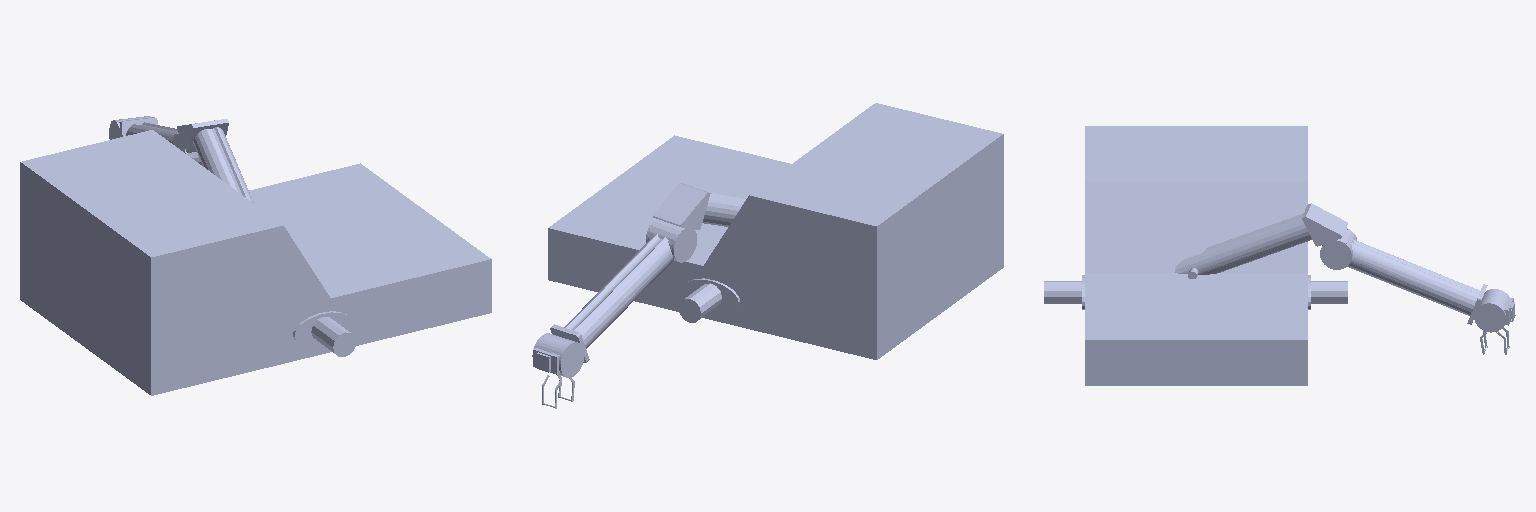
URDF robot description (sra):
<?xml version="1.0" encoding="utf-8"?>
<!-- This URDF was automatically created by SolidWorks to URDF Exporter! Originally created by [author] ([email redacted]) 
     Commit Version: 1.5.1-0-g916b5db  Build Version: 1.5.7152.31018
     For more information, please see http://wiki.ros.org/sw_urdf_exporter -->
<robot name="sra">

  <link name="base_link">
    <inertial>
      <origin
        xyz="0 0.0127 4.5102E-19"
        rpy="0 0 0" />
      <mass value="0.08044" />
      <inertia
        ixx="2.4597E-05"
        ixy="-6.268E-38"
        ixz="0"
        iyy="4.0544E-05"
        iyz="0"
        izz="2.4597E-05" />
    </inertial>
    <visual>
      <origin
        xyz="0 0 0"
        rpy="0 0 0" />
      <geometry>
        <mesh filename="package://srr_sim/meshes/sra/base_link.STL" />
      </geometry>
      <material name="">
        <color rgba="0.79216 0.81961 0.93333 1" />
      </material>
    </visual>
    <collision>
      <origin
        xyz="0 0 0"
        rpy="0 0 0" />
      <geometry>
        <mesh filename="package://srr_sim/meshes/sra/base_link.STL" />
      </geometry>
    </collision>
  </link>
  <joint name="BaseJoint" type="revolute"> <!-- rev_joint1 -->
    <origin
      xyz="0 0 0.0254"
      rpy="1.5708 0 1.4018" />
    <parent link="base_link" />
    <child link="BaseToShoulderLink" />
    <axis xyz="0 1 0" />
    <limit
      lower="-3.14159265"
      upper="3.14159265"
      effort="0"
      velocity="0" />
  </joint>
  <link name="BaseToShoulderLink"> <!-- base_rev_link -->
    <inertial>
      <origin
        xyz="-2.92661162667607E-17 0.013697641221977 9.45375589091657E-17"
        rpy="0 0 0" />
      <mass value="0.0540161279717926" />
      <inertia
        ixx="2.90475786565652E-05"
        ixy="-5.89115315950834E-21"
        ixz="-3.59989002583078E-21"
        iyy="2.8681014009555E-05"
        iyz="2.99557283317081E-21"
        izz="2.29779164641968E-05" />
    </inertial>
    <visual>
      <origin
        xyz="0 0 0"
        rpy="0 0 0" />
      <geometry>
        <mesh filename="package://srr_sim/meshes/sra/BaseToShoulderLink.STL" />
      </geometry>
      <material name="">
        <color rgba="0.792156862745098 0.819607843137255 0.933333333333333 1" />
      </material>
    </visual>
    <collision>
      <origin
        xyz="0 0 0"
        rpy="0 0 0" />
      <geometry>
        <mesh filename="package://srr_sim/meshes/sra/BaseToShoulderLink.STL" />
      </geometry>
    </collision>
  </link>
  <joint name="ShoulderJoint" type="revolute"> <!-- link_joint1 -->
    <origin
      xyz="0 0.05 0"
      rpy="0 0 -0.35492" />
    <parent link="BaseToShoulderLink" />
    <child link="ShoulderToElbowDummyLink" />
    <axis xyz="0 0 1" />
    <limit
      lower="-3.14159265"
      upper="3.14159265"
      effort="0"
      velocity="0" />
  </joint>
  <link name="ShoulderToElbowDummyLink"> <!-- link1 -->
    <inertial>
      <origin
        xyz="0.0534557495118669 0.0514473910632604 -1.16144608446203E-07"
        rpy="0 0 0" />
      <mass value="0.214557043401322" />
      <inertia
        ixx="0.0003839937136465"
        ixy="-0.000341660300404952"
        ixz="2.05559672158717E-10"
        iyy="0.000375988028453804"
        iyz="1.9308845878262E-10"
        izz="0.000714072868957156" />
    </inertial>
    <visual>
      <origin
        xyz="0 0 0"
        rpy="0 0 0" />
      <geometry>
        <mesh filename="package://srr_sim/meshes/sra/ShoulderToElbowDummyLink.STL" />
      </geometry>
      <material name="">
        <color rgba="0.792156862745098 0.819607843137255 0.933333333333333 1" />
      </material>
    </visual>
    <collision>
      <origin
        xyz="0 0 0"
        rpy="0 0 0" />
      <geometry>
        <mesh filename="package://srr_sim/meshes/sra/ShoulderToElbowDummyLink.STL" />
      </geometry>
    </collision>
  </link>
  <joint name="ElbowDummyJoint" type="fixed"> <!-- rev_joint2 -->
    <origin
      xyz="0.12391 0.12273 0"
      rpy="3.1416 1.5699 2.3621" />
    <parent link="ShoulderToElbowDummyLink" />
    <child link="ElbowDummyToElbowLink" />
    <axis xyz="0 0 0" />
  </joint>
  <link name="ElbowDummyToElbowLink"> <!-- elbow_link -->
    <inertial>
      <origin
        xyz="0 0.0163233914746476 0.0132455209357924"
        rpy="0 0 0" />
      <mass value="0.0573187162898318" />
      <inertia
        ixx="2.58798993980099E-05"
        ixy="-4.2351647362715E-22"
        ixz="1.27054942088145E-21"
        iyy="3.20171573487793E-05"
        iyz="-4.34269587164865E-06"
        izz="1.8287385699815E-05" />
    </inertial>
    <visual>
      <origin
        xyz="0 0 0"
        rpy="0 0 0" />
      <geometry>
        <mesh filename="package://srr_sim/meshes/sra/ElbowDummyToElbowLink.STL" />
      </geometry>
      <material name="">
        <color rgba="0.792156862745098 0.819607843137255 0.933333333333333 1" />
      </material>
    </visual>
    <collision>
      <origin
        xyz="0 0 0"
        rpy="0 0 0" />
      <geometry>
        <mesh filename="package://srr_sim/meshes/sra/ElbowDummyToElbowLink.STL" />
      </geometry>
    </collision>
  </link>
  <joint name="ElbowJoint" type="revolute"> <!-- link_joint2 -->
    <origin
      xyz="0 0.020955 0.044653"
      rpy="-1.5708 -0.78332 1.5708" />
    <parent link="ElbowDummyToElbowLink" />
    <child link="ElbowToWristDummyLink" />
    <axis xyz="0 0 1" />
    <limit
      lower="-3.14159265"
      upper="3.14159265"
      effort="0"
      velocity="0" />
  </joint>
  <link name="ElbowToWristDummyLink"> <!-- link2 -->
    <inertial>
      <origin
        xyz="0.0858177624956566 -1.25158604868947E-08 -4.63290909594183E-08"
        rpy="0 0 0" />
      <mass value="0.254788454624903" />
      <inertia
        ixx="4.84762406785471E-05"
        ixy="5.75227524879708E-10"
        ixz="3.16093488433986E-10"
        iyy="0.00114592865199362"
        iyz="8.28821942853867E-11"
        izz="0.00114257889880737" />
    </inertial>
    <visual>
      <origin
        xyz="0 0 0"
        rpy="0 0 0" />
      <geometry>
        <mesh filename="package://srr_sim/meshes/sra/ElbowToWristDummyLink.STL" />
      </geometry>
      <material name="">
        <color rgba="0.792156862745098 0.819607843137255 0.933333333333333 1" />
      </material>
    </visual>
    <collision>
      <origin
        xyz="0 0 0"
        rpy="0 0 0" />
      <geometry>
        <mesh filename="package://srr_sim/meshes/sra/ElbowToWristDummyLink.STL" />
      </geometry>
    </collision>
  </link>
  <joint name="WristDummyJoint" type="fixed"> <!-- rev_joint3 -->
    <origin
      xyz="0.20384 0 0"
      rpy="1.5708 -1.537 -1.5708" />
    <parent link="ElbowToWristDummyLink" />
    <child link="WristDummyToWristLink" />
    <axis xyz="0 0 0" />
  </joint>
  <link name="WristDummyToWristLink"> <!-- wrist_link -->
    <inertial>
      <origin
        xyz="4.16333634234434E-17 0 -0.0124948683739999"
        rpy="0 0 0" />
      <mass value="0.0181588599237565" />
      <inertia
        ixx="6.59648184082338E-06"
        ixy="-3.01755487459344E-21"
        ixz="1.81053292475607E-20"
        iyy="9.2898791354798E-06"
        iyz="4.87043944671223E-21"
        izz="8.77766253503143E-06" />
    </inertial>
    <visual>
      <origin
        xyz="0 0 0"
        rpy="0 0 0" />
      <geometry>
        <mesh filename="package://srr_sim/meshes/sra/WristDummyToWristLink.STL" />
      </geometry>
      <material name="">
        <color rgba="0.792156862745098 0.819607843137255 0.933333333333333 1" />
      </material>
    </visual>
    <collision>
      <origin
        xyz="0 0 0"
        rpy="0 0 0" />
      <geometry>
        <mesh filename="package://srr_sim/meshes/sra/WristDummyToWristLink.STL" />
      </geometry>
    </collision>
  </link>
  <joint name="WristJoint" type="revolute"> <!-- link_joint3 -->
    <origin
      xyz="0 0 -0.02286"
      rpy="-1.5708 -0.36389 1.5708" />
    <parent link="WristDummyToWristLink" />
    <child link="WristToGripperLink" />
    <axis xyz="0 0 1" />
    <limit
      lower="-3.14159265"
      upper="3.14159265"
      effort="0"
      velocity="0" />
  </joint>
  <link name="WristToGripperLink"> <!-- link3 -->
    <inertial>
      <origin
        xyz="-0.0019136 -1.2991E-05 5.9674E-16"
        rpy="0 0 0" />
      <mass value="0.064171" />
      <inertia
        ixx="1.5169E-05"
        ixy="-3.7058E-22"
        ixz="-2.7859E-21"
        iyy="1.7646E-05"
        iyz="1.9058E-21"
        izz="1.754E-05" />
    </inertial>
    <visual>
      <origin
        xyz="0 0 0"
        rpy="0 0 0" />
      <geometry>
        <mesh filename="package://srr_sim/meshes/sra/WristToGripperLink.STL" />
      </geometry>
      <material name="">
        <color rgba="0.79216 0.81961 0.93333 1" />
      </material>
    </visual>
    <collision>
      <origin
        xyz="0 0 0"
        rpy="0 0 0" />
      <geometry>
        <mesh filename="package://srr_sim/meshes/sra/WristToGripperLink.STL" />
      </geometry>
    </collision>
  </link>
  <joint name="GripperJoint" type="revolute"> <!-- end_eff_joint -->
    <origin
      xyz="-0.027305 -0.00762 0"
      rpy="0 0 0.65153" />
    <parent link="WristToGripperLink" />
    <child link="Gripper" />
    <axis xyz="0 0 1" />
    <limit
      lower="-3.14159265"
      upper="3.14159265"
      effort="0"
      velocity="0" />
  </joint>
  <link name="Gripper"> <!-- end_eff_link -->
    <inertial>
      <origin
        xyz="-0.0092671 0.018678 2.9143E-16"
        rpy="0 0 0" />
      <mass value="0.00069229" />
      <inertia
        ixx="1.0465E-07"
        ixy="4.0941E-08"
        ixz="2.3326E-22"
        iyy="1.1251E-07"
        iyz="5.8564E-22"
        izz="8.9928E-08" />
    </inertial>
    <visual>
      <origin
        xyz="0 0 0"
        rpy="0 0 0" />
      <geometry>
        <mesh filename="package://srr_sim/meshes/sra/Gripper.STL" />
      </geometry>
      <material name="">
        <color rgba="0.79216 0.81961 0.93333 1" />
      </material>
    </visual>
    <collision>
      <origin
        xyz="0 0 0"
        rpy="0 0 0" />
      <geometry>
        <mesh filename="package://srr_sim/meshes/sra/Gripper.STL" />
      </geometry>
    </collision>
  </link>

</robot>

--- Render facts (derived) ---
The picture shows the robot from 3 angles, left to right: view 1: azimuth 30°, elevation 25°; view 2: azimuth 150°, elevation 25°; view 3: azimuth 270°, elevation 25°; orthographic projection.
Robot: sra — 8 links, 7 joints (5 revolute, 2 fixed); root link base_link; default pose: every joint at zero.
Visible links, largest first — view 1: base_link, ShoulderToElbowDummyLink, ElbowDummyToElbowLink, ElbowToWristDummyLink; view 2: base_link, ElbowToWristDummyLink, ElbowDummyToElbowLink, WristDummyToWristLink, WristToGripperLink, ShoulderToElbowDummyLink; view 3: base_link, ElbowToWristDummyLink, ShoulderToElbowDummyLink, ElbowDummyToElbowLink, WristDummyToWristLink, WristToGripperLink.
Boxes of the visible links, box(x1,y1,x2,y2) form: base_link: box(20, 130, 491, 395); ShoulderToElbowDummyLink: box(193, 127, 253, 202); ElbowDummyToElbowLink: box(173, 119, 228, 154); ElbowToWristDummyLink: box(126, 122, 202, 165); base_link: box(548, 103, 1003, 359); ElbowToWristDummyLink: box(564, 219, 681, 348); ElbowDummyToElbowLink: box(646, 183, 710, 262); WristDummyToWristLink: box(532, 324, 589, 377); WristToGripperLink: box(533, 334, 574, 376); ShoulderToElbowDummyLink: box(702, 193, 745, 226); base_link: box(1044, 126, 1347, 385); ElbowToWristDummyLink: box(1322, 229, 1479, 315); ShoulderToElbowDummyLink: box(1175, 213, 1311, 278); ElbowDummyToElbowLink: box(1302, 203, 1356, 269); WristDummyToWristLink: box(1467, 284, 1509, 332); WristToGripperLink: box(1480, 290, 1515, 325).
Size in the robot's own frame: 0.4572 by 0.6418 by 0.202 metres.
8 mesh visuals loaded from 8 distinct referenced files (8 binary STL).
